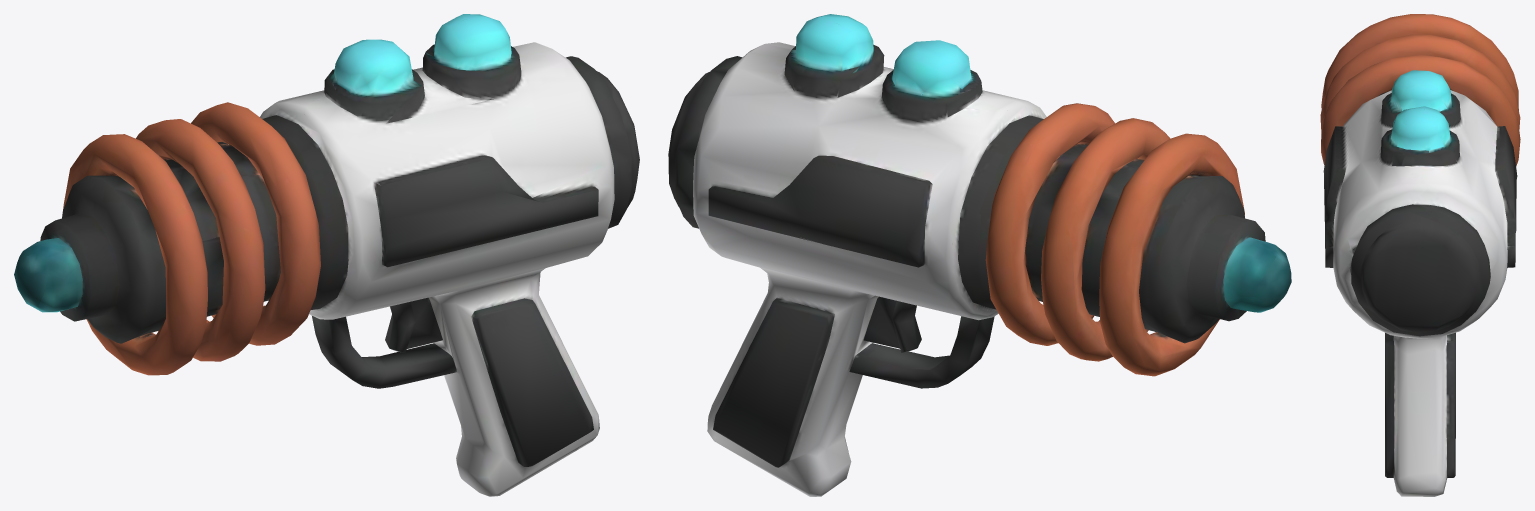
File: tenka-coilgun.glb
The picture shows the model from 3 angles, left to right: view 1: azimuth 30°, elevation 25°; view 2: azimuth 150°, elevation 25°; view 3: azimuth 270°, elevation 25°; orthographic projection. The views are drawn at different scales.
Parts seen in each view (by area): view 1: tenka-coilgun; view 2: tenka-coilgun; view 3: tenka-coilgun.
Part boxes in pixels (x1,y1,x2,y2): tenka-coilgun: (14,14,639,496); tenka-coilgun: (668,14,1291,496); tenka-coilgun: (1320,14,1520,496).
Size of the model in its own units: 0.9512 by 0.7293 by 0.3576.
1 material, 1 textured.
